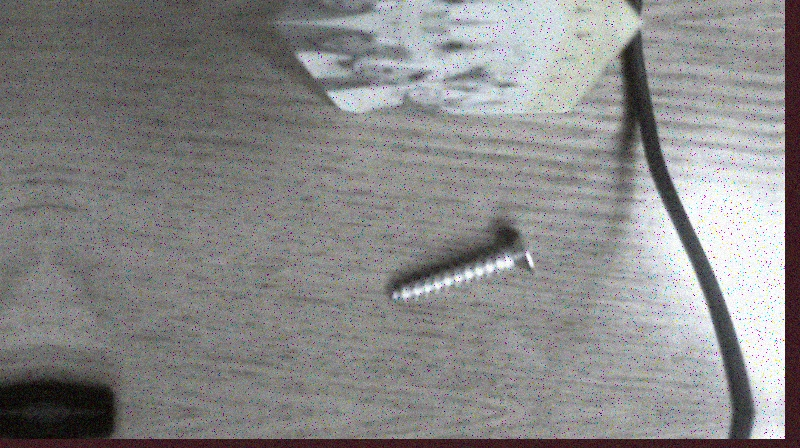S001: (386, 227, 539, 304)
